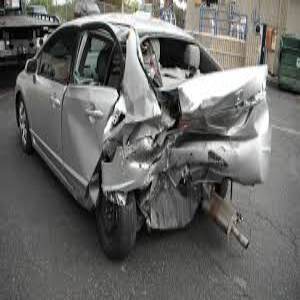bonnet: (164, 59, 274, 113)
bumper: (102, 151, 237, 200)
